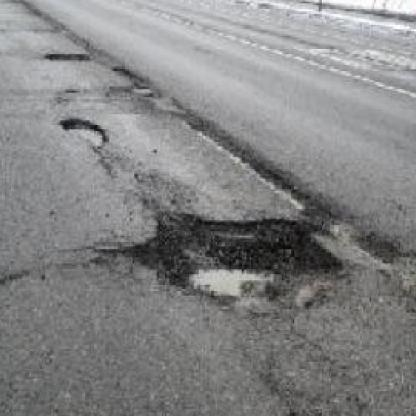pothole: (128, 208, 347, 300), (54, 113, 107, 151), (42, 51, 91, 62)
